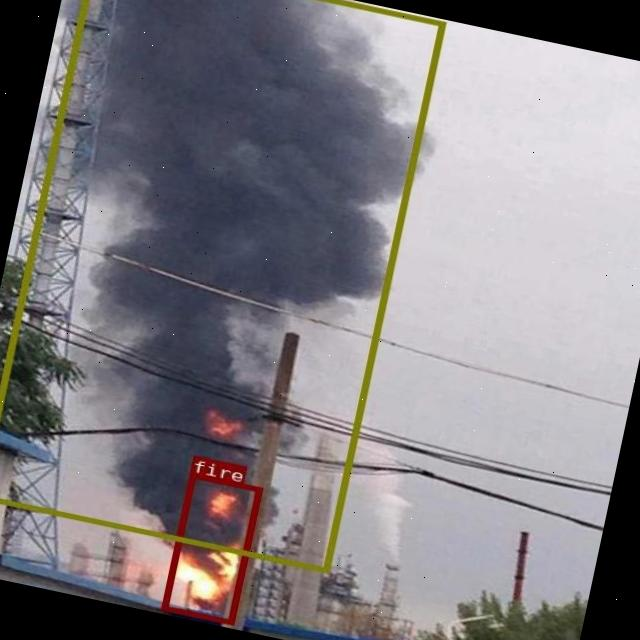fire: (161, 472, 261, 624)
smoke: (0, 0, 443, 571)
